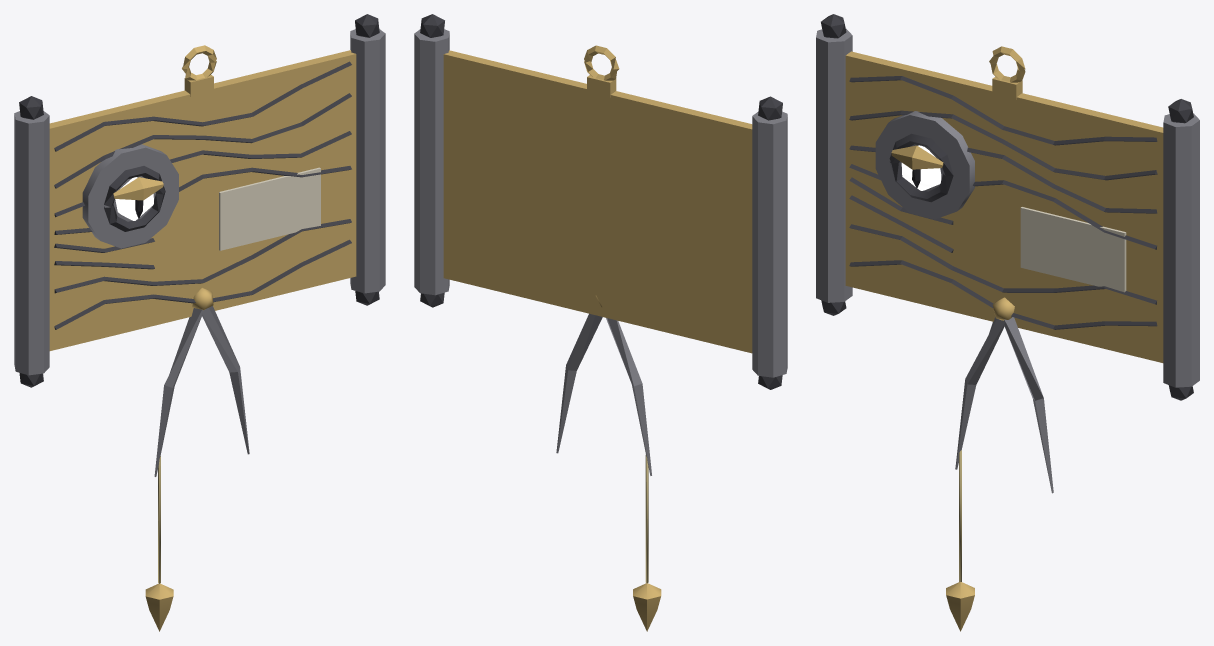
The model's file is astrolabe-deep-chart.glb.
The picture shows the model from 3 angles, left to right: view 1: azimuth 30°, elevation 25°; view 2: azimuth 150°, elevation 25°; view 3: azimuth 330°, elevation 25°; orthographic projection. The views are drawn at different scales.
Visible parts, largest first — view 1: astrolabe_deep_chart; view 2: astrolabe_deep_chart; view 3: astrolabe_deep_chart.
Part boxes in pixels (<box>): astrolabe_deep_chart: <box>14,14,385,631</box>; astrolabe_deep_chart: <box>414,14,787,631</box>; astrolabe_deep_chart: <box>816,14,1199,631</box>.
Bounding box in the file's own units: 0.5202 × 0.7784 × 0.0668.
